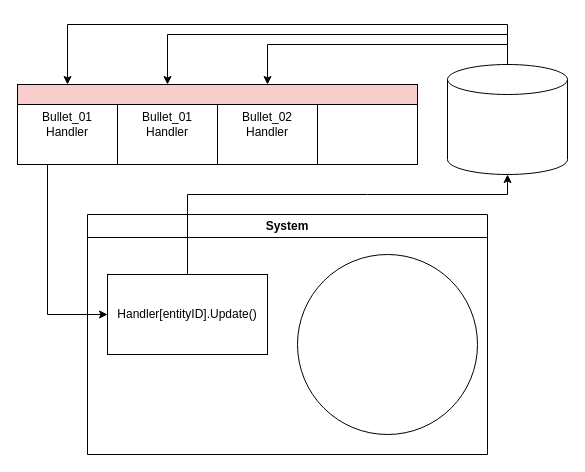
Some shapes in this 585 by 472 pixel diagram are drawn without their labels. Here are the shapes that lost their labels. From the top down, the centre of each, then its label:
At point (217, 94): "memory".
At point (507, 119): "HandlerDB".
At point (387, 344): "Entities".
